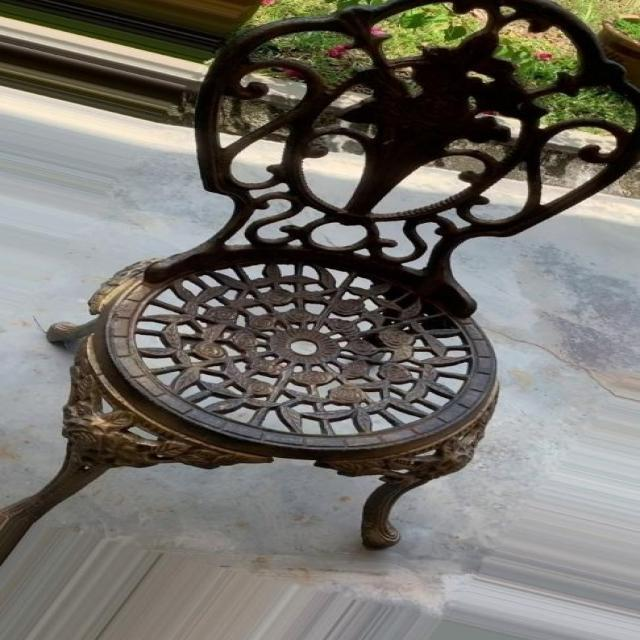chair: (9, 4, 640, 558)
